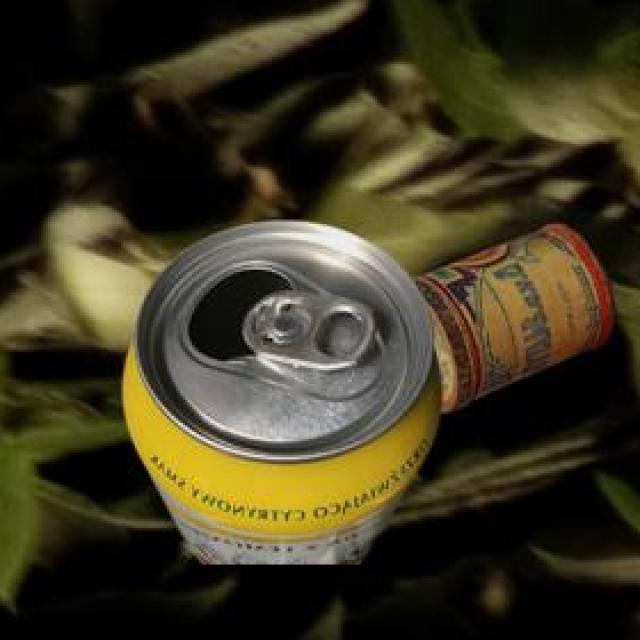logam: (120, 225, 438, 568), (408, 227, 611, 417)
